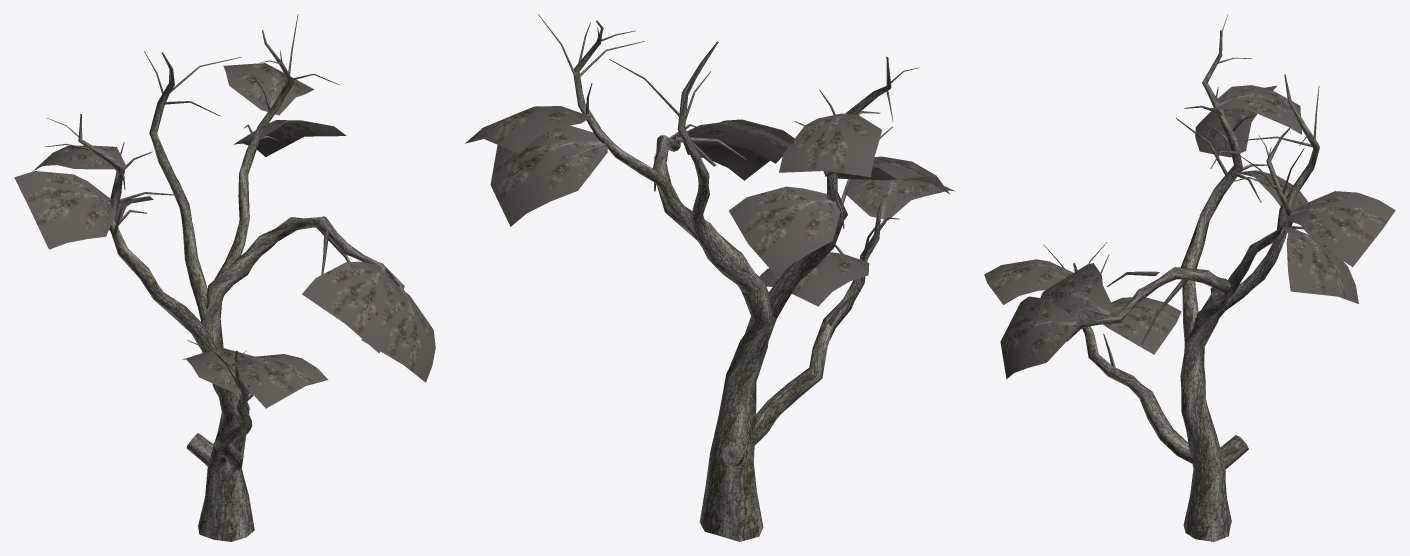
Rendered from Generic_Dead_Autumn_Adult.glb.
The picture shows the model from 3 angles, left to right: view 1: azimuth 30°, elevation 25°; view 2: azimuth 150°, elevation 25°; view 3: azimuth 270°, elevation 25°; orthographic projection. The views are drawn at different scales.
Parts seen in each view (by area): view 1: Generic_Dead_Autumn_Adult__LOD3; view 2: Generic_Dead_Autumn_Adult__LOD3; view 3: Generic_Dead_Autumn_Adult__LOD3.
Boxes of the visible parts, left/top/right/bottom form: Generic_Dead_Autumn_Adult__LOD3: left=14, top=14, right=435, bottom=541; Generic_Dead_Autumn_Adult__LOD3: left=465, top=14, right=954, bottom=541; Generic_Dead_Autumn_Adult__LOD3: left=984, top=14, right=1395, bottom=541.
Size of the model in its own units: 17.6 by 22.03 by 18.56.
2 materials, 2 textured.
